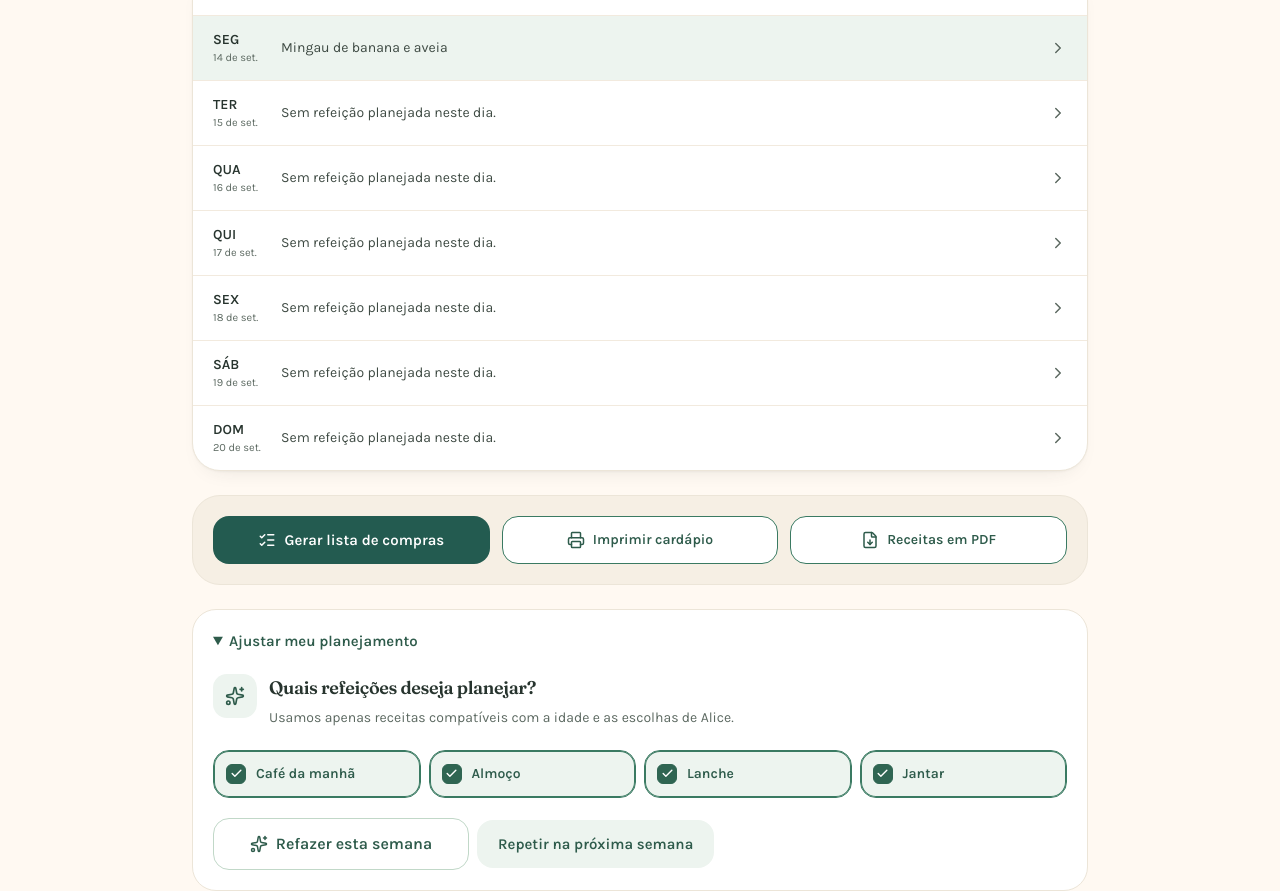
Test: pede confirmação antes de substituir um cardápio já existente na próxima semana
This screenshot has width=1280, height=891.
(page scrolled)
Click the button "Repetir na próxima semana" at (596, 844), box [477,820,714,868]
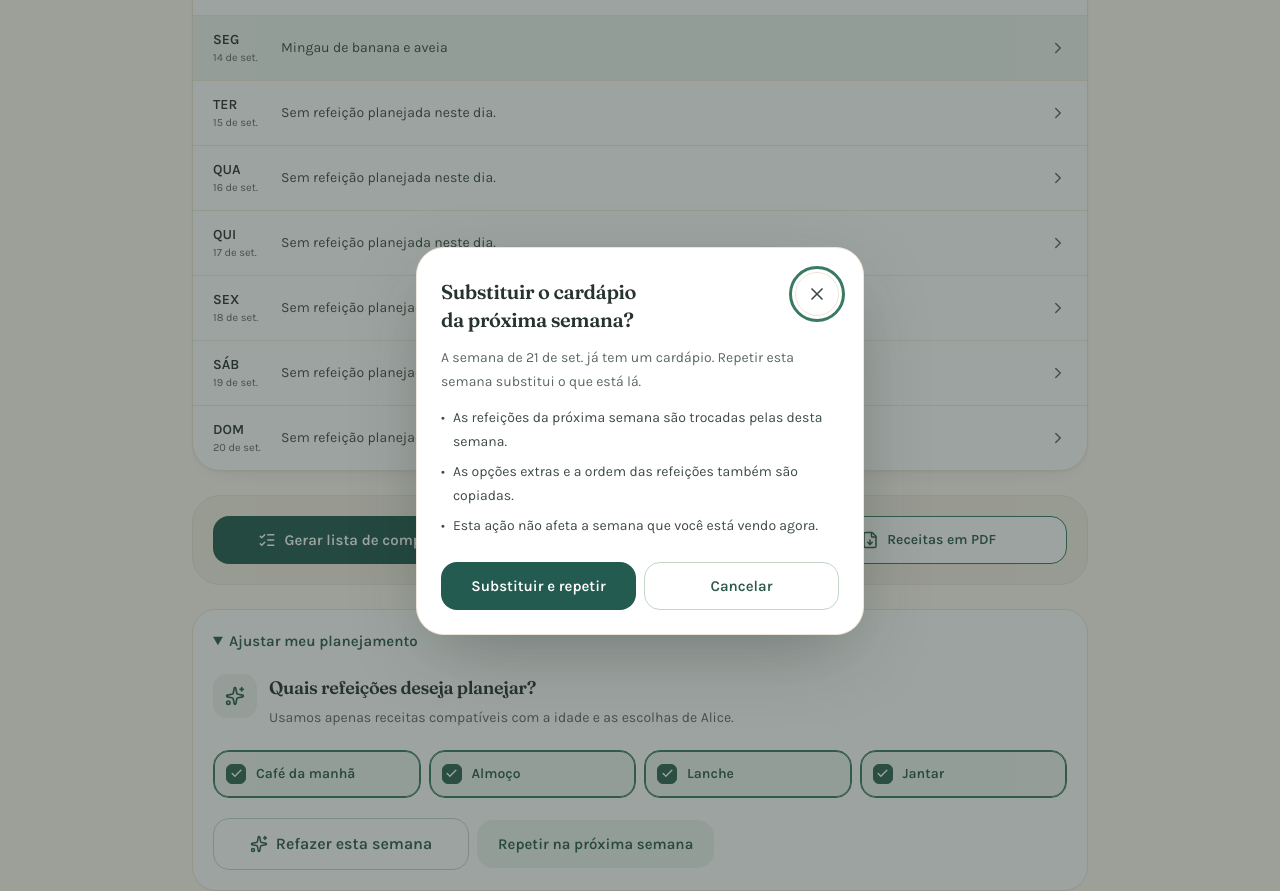
Check: the dialog is shown, box [416,247,864,635]
Check: the text "já tem um cardápio" is shown, box [441,349,794,390]
